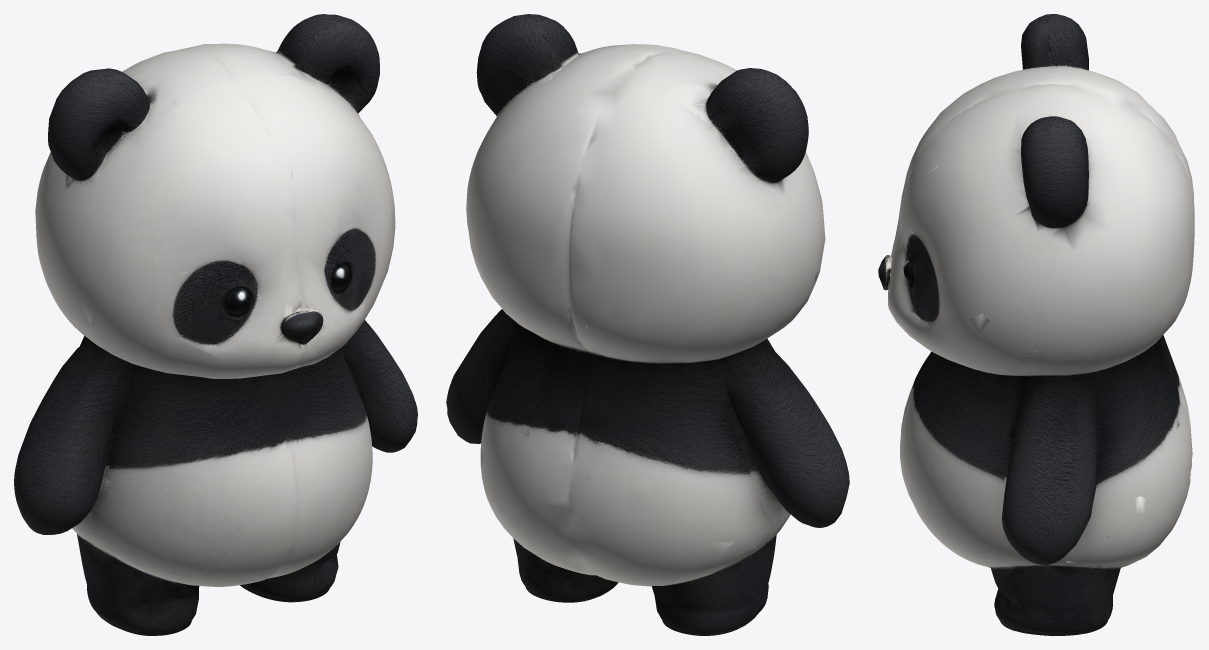
File: pet_panda.glb
3 renders of one model, left to right at view 1: azimuth 30°, elevation 25°; view 2: azimuth 150°, elevation 25°; view 3: azimuth 270°, elevation 25°, orthographic. The views are drawn at different scales.
Parts seen in each view (by area): view 1: node_0; view 2: node_0; view 3: node_0.
Part boxes in pixels (left/top/right/bottom): node_0: left=14, top=14, right=417, bottom=635; node_0: left=446, top=14, right=849, bottom=635; node_0: left=878, top=14, right=1194, bottom=635.
Bounding box in the file's own units: 0.7992 × 1.09 × 0.602.
1 material, 1 textured.
